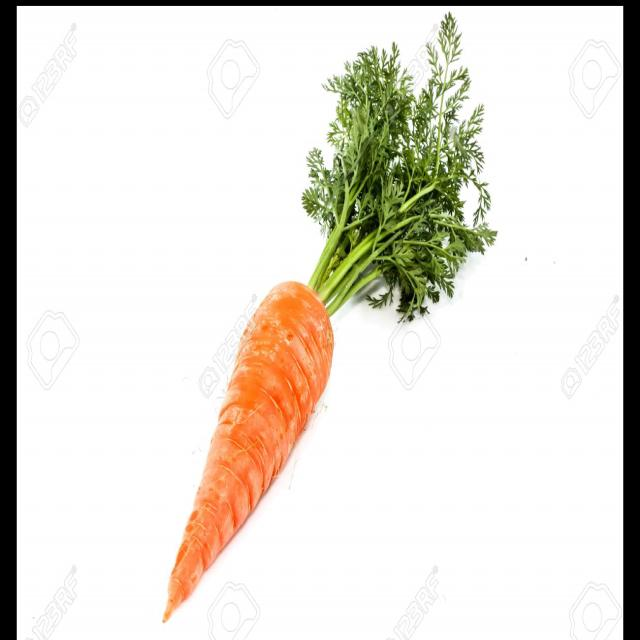Carrot: (168, 280, 334, 621)
